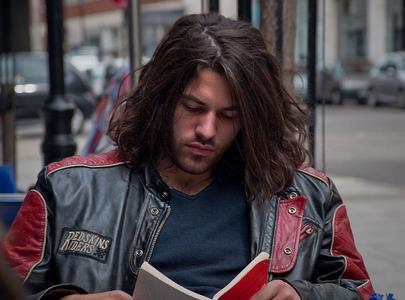person: (2, 14, 380, 300)
